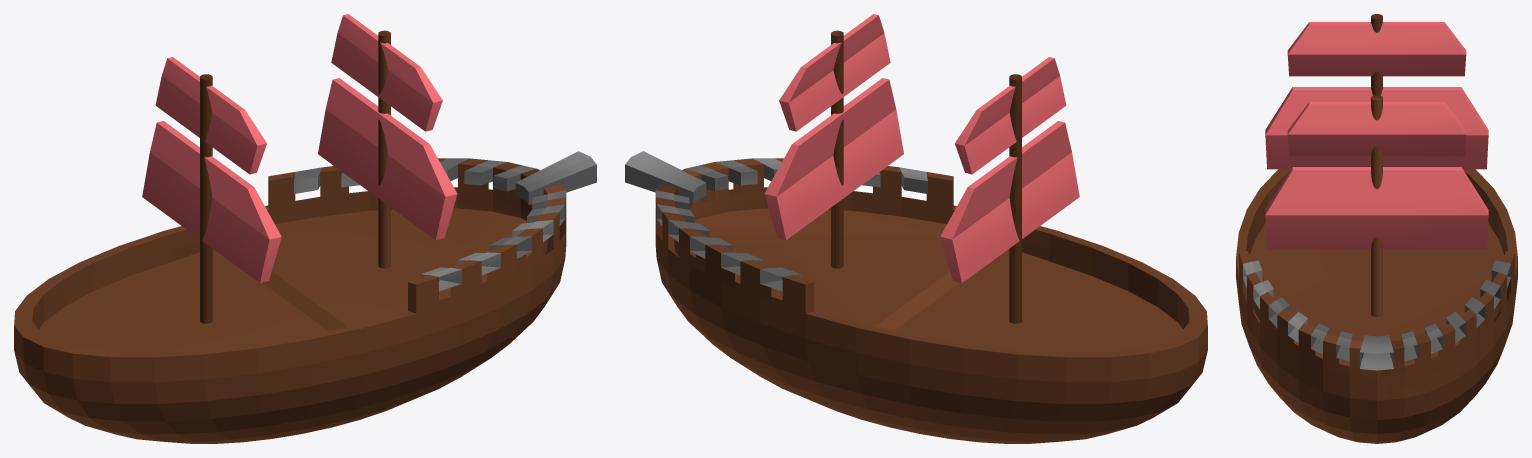
File: Ship.fbx
3 renders of one model, left to right at view 1: azimuth 30°, elevation 25°; view 2: azimuth 150°, elevation 25°; view 3: azimuth 270°, elevation 25°, orthographic. The views are drawn at different scales.
Parts seen in each view (by area): view 1: Cylinder; view 2: Cylinder; view 3: Cylinder.
Boxes of the visible parts, bbox=[...] form: Cylinder: bbox=[14, 14, 596, 443]; Cylinder: bbox=[625, 14, 1207, 443]; Cylinder: bbox=[1236, 14, 1517, 443].
Size of the model in its own units: 177044 by 107491 by 81646.
3 materials, 3 textured.
